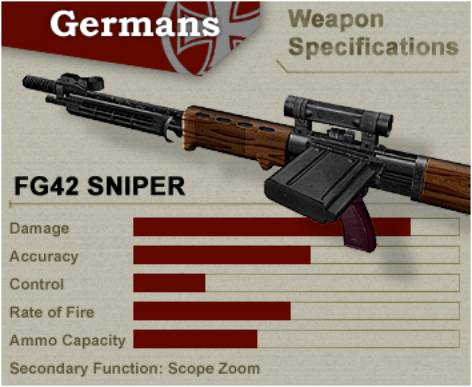rifle: (15, 64, 470, 216)
